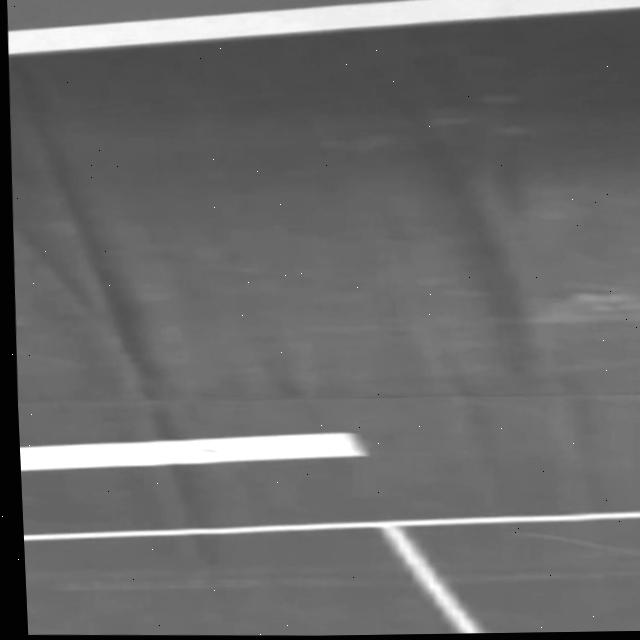center: (20, 432, 364, 470)
left: (6, 0, 640, 54)
